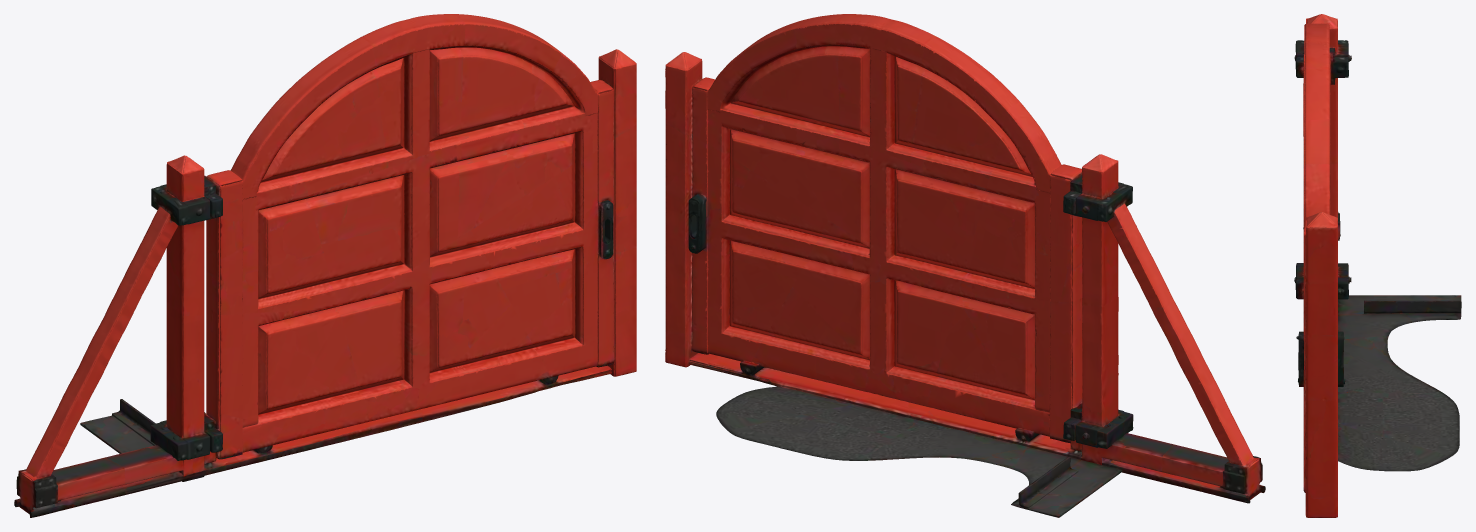
Rendered from redgatesliding.glb.
The picture shows the model from 3 angles, left to right: view 1: azimuth 30°, elevation 25°; view 2: azimuth 150°, elevation 25°; view 3: azimuth 270°, elevation 25°; orthographic projection. The views are drawn at different scales.
Parts seen in each view (by area): view 1: tripo_node_fd1096b6-3a06-4583-a590-d76b830c2c38; view 2: tripo_node_fd1096b6-3a06-4583-a590-d76b830c2c38; view 3: tripo_node_fd1096b6-3a06-4583-a590-d76b830c2c38.
Boxes of the visible parts, left/top/right/bottom form: tripo_node_fd1096b6-3a06-4583-a590-d76b830c2c38: left=14, top=14, right=636, bottom=517; tripo_node_fd1096b6-3a06-4583-a590-d76b830c2c38: left=665, top=14, right=1265, bottom=517; tripo_node_fd1096b6-3a06-4583-a590-d76b830c2c38: left=1294, top=14, right=1461, bottom=517.
Size of the model in its own units: 0.9799 by 0.6129 by 0.2476.
1 material, 1 textured.
